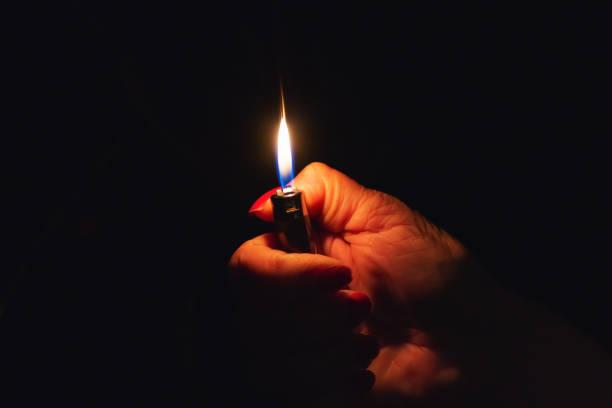Fire: (271, 108, 298, 190)
